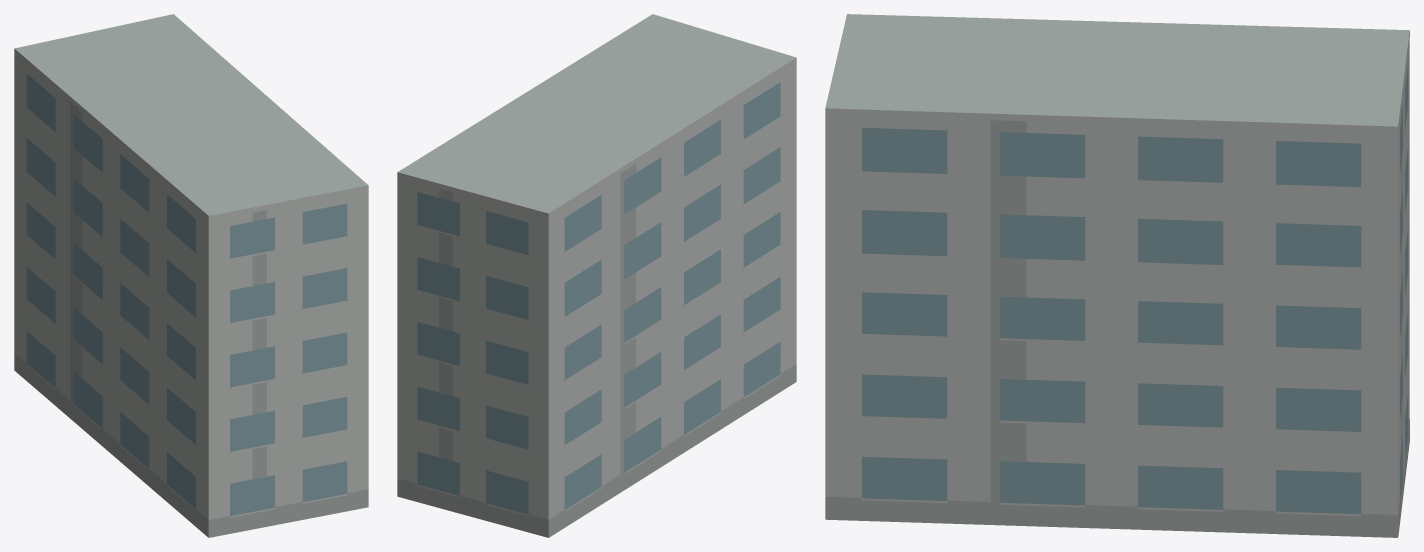
The model's file is survey-upis-32811060.glb.
The picture shows the model from 3 angles, left to right: view 1: azimuth 30°, elevation 25°; view 2: azimuth 150°, elevation 25°; view 3: azimuth 270°, elevation 25°; orthographic projection. The views are drawn at different scales.
Visible parts, largest first — view 1: survey-upis-32811060.tmp; view 2: survey-upis-32811060.tmp; view 3: survey-upis-32811060.tmp.
Boxes of the visible parts, bbox=[...] form: survey-upis-32811060.tmp: bbox=[14, 14, 368, 537]; survey-upis-32811060.tmp: bbox=[397, 14, 796, 537]; survey-upis-32811060.tmp: bbox=[825, 14, 1409, 537].
Bounding box in the file's own units: 8.9 × 15.15 × 19.52.
